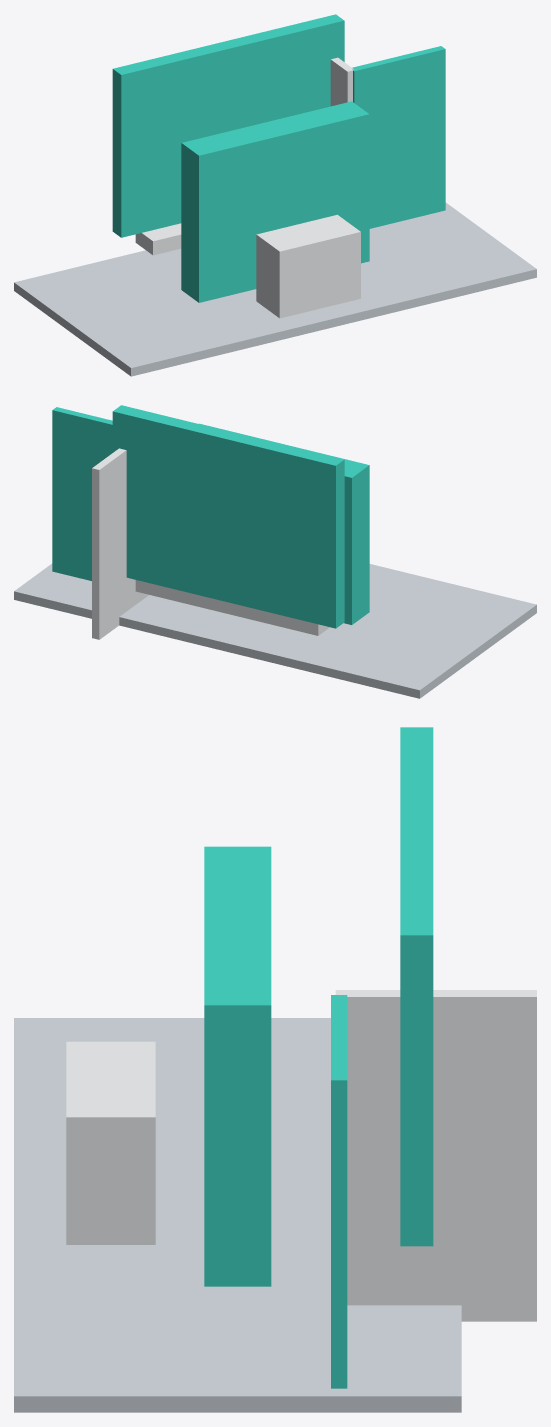
The picture shows the model from 3 angles, top to bottom: view 1: azimuth 30°, elevation 25°; view 2: azimuth 150°, elevation 25°; view 3: azimuth 270°, elevation 25°; orthographic projection. The views are drawn at different scales.
Visible parts, largest first — view 1: Exhibition Booth Concept; view 2: Exhibition Booth Concept; view 3: Exhibition Booth Concept.
Part boxes in pixels (box(x1,y1,x2,y2)): Exhibition Booth Concept: box(14, 14, 536, 376); Exhibition Booth Concept: box(14, 405, 536, 698); Exhibition Booth Concept: box(14, 727, 536, 1412).
Bounding box in the file's own units: 6 × 2.9 × 3.51.
